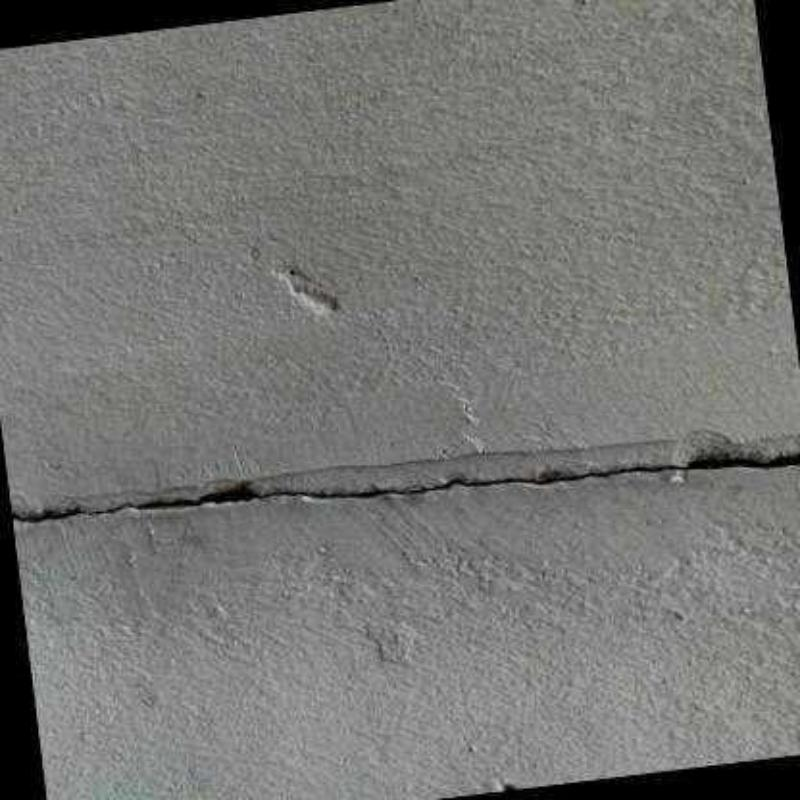pothole: (11, 454, 798, 526)
